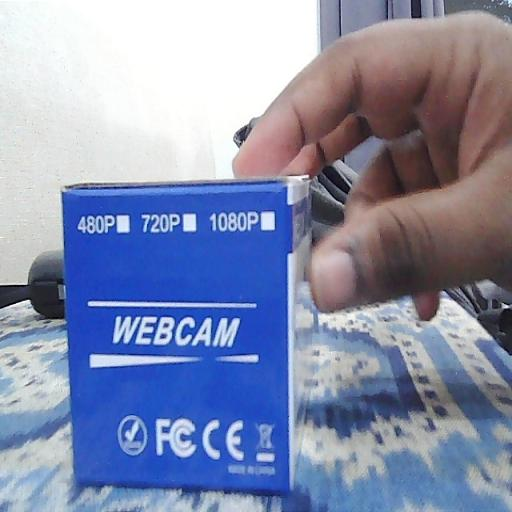webcam_box: (65, 175, 317, 498)
